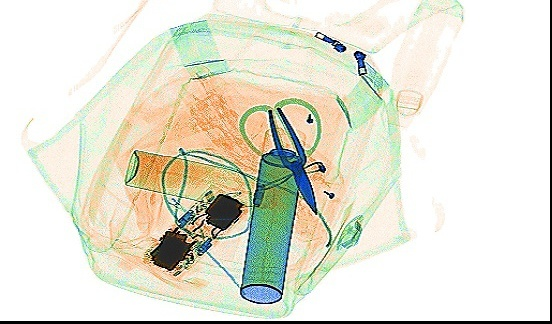pressure: (238, 125, 308, 303), (121, 144, 275, 210)
scissors: (237, 93, 319, 216)
